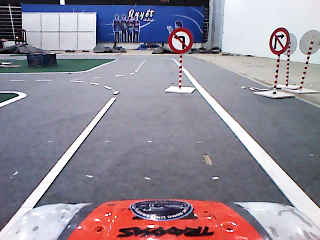ban: (167, 27, 194, 53), (269, 27, 291, 55)
